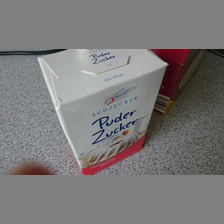tomato_sauce: (37, 49, 169, 174)
